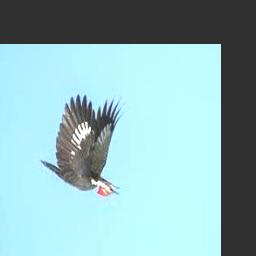Woodpecker: (40, 93, 125, 198)
